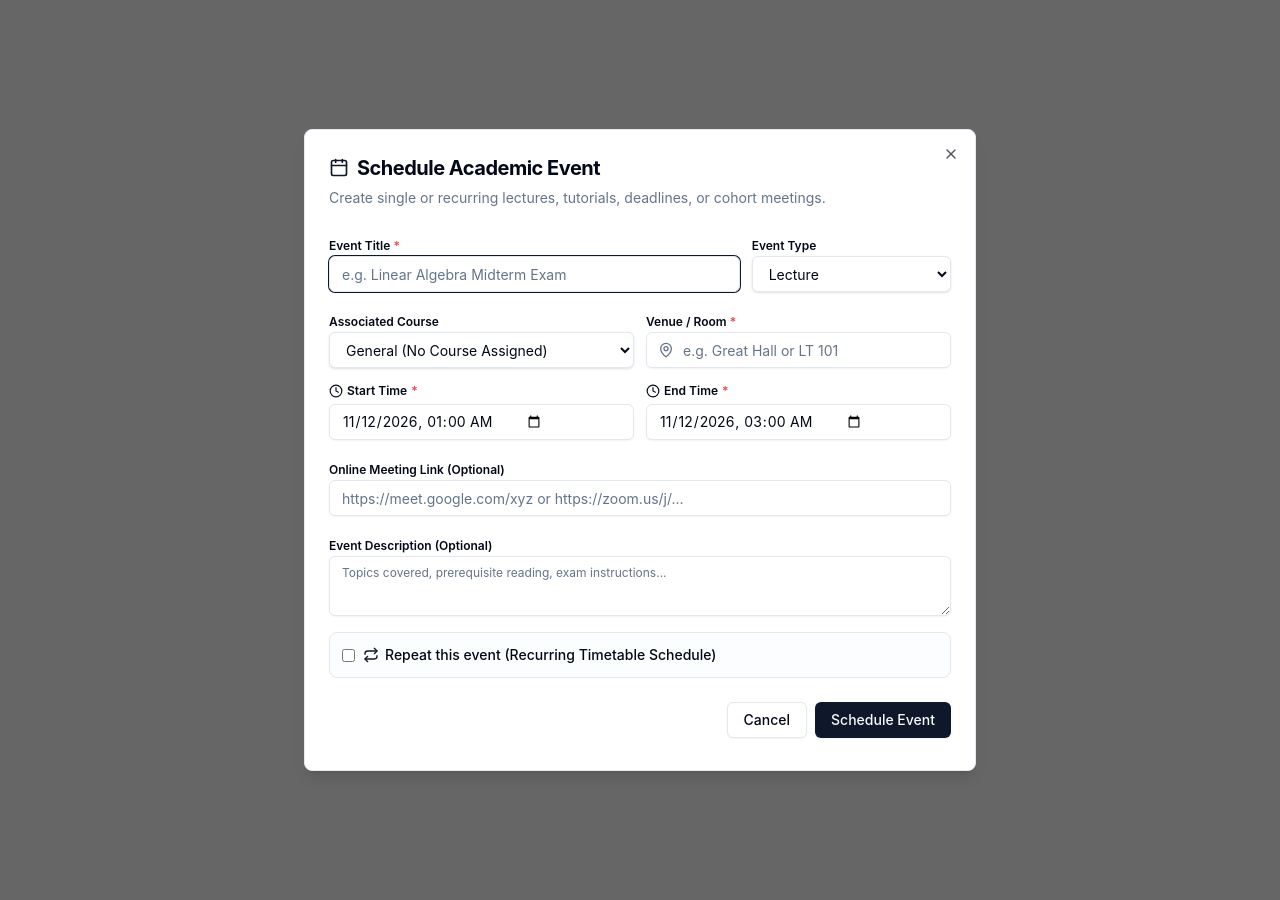
Scenario: Event Components & Dialogs › CreateEventDialog › displays venue collision warning banner when 409 conflict occurs
The image size is (1280, 900).
Type "Conflict Lecture" into the field labelled "Event Title *".
click(534, 274); type("Conflict Lecture")  # box [329, 256, 740, 292]
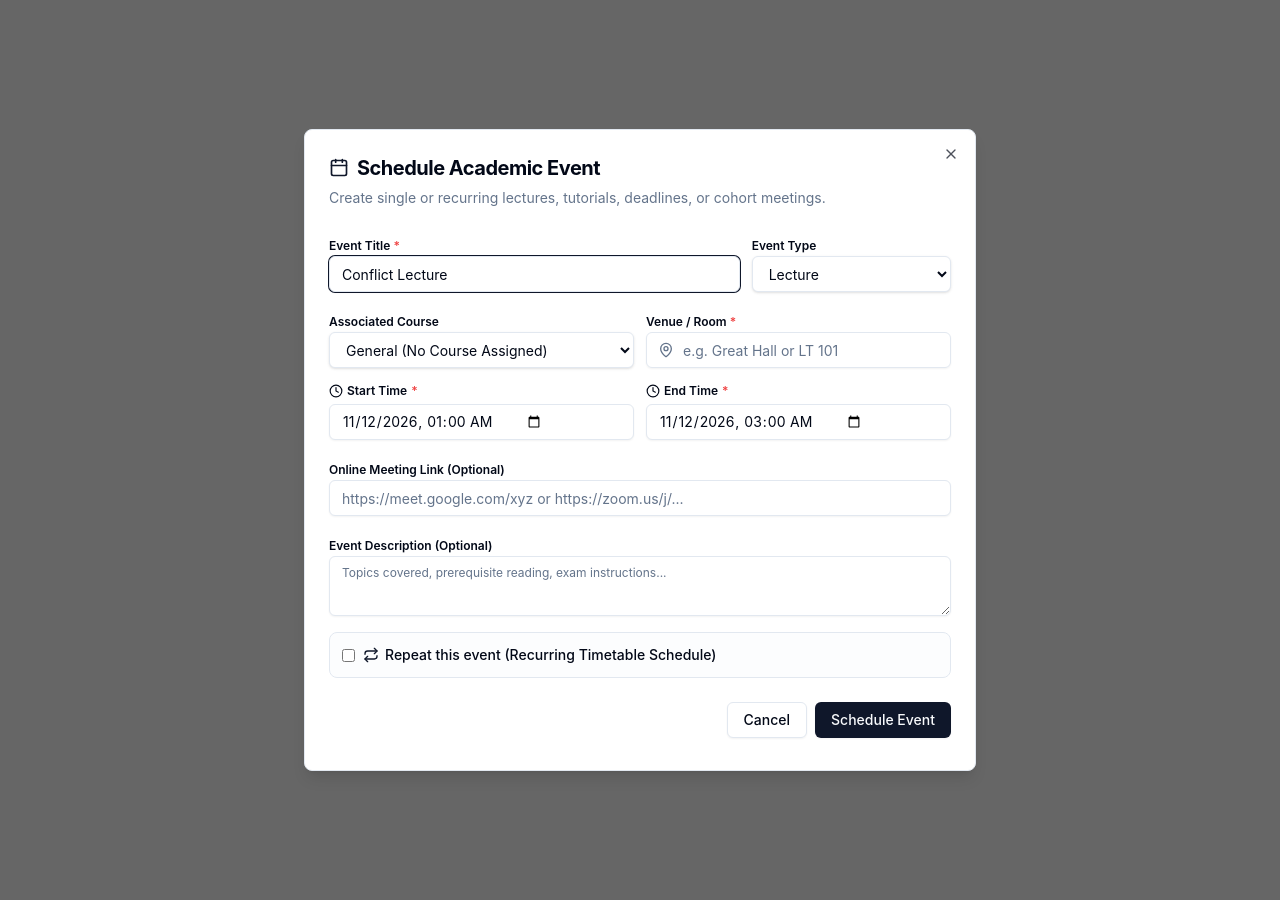
Type "Auditorium 1" into the field labelled "Venue / Room *".
click(798, 350); type("Auditorium 1")  # box [646, 332, 951, 368]
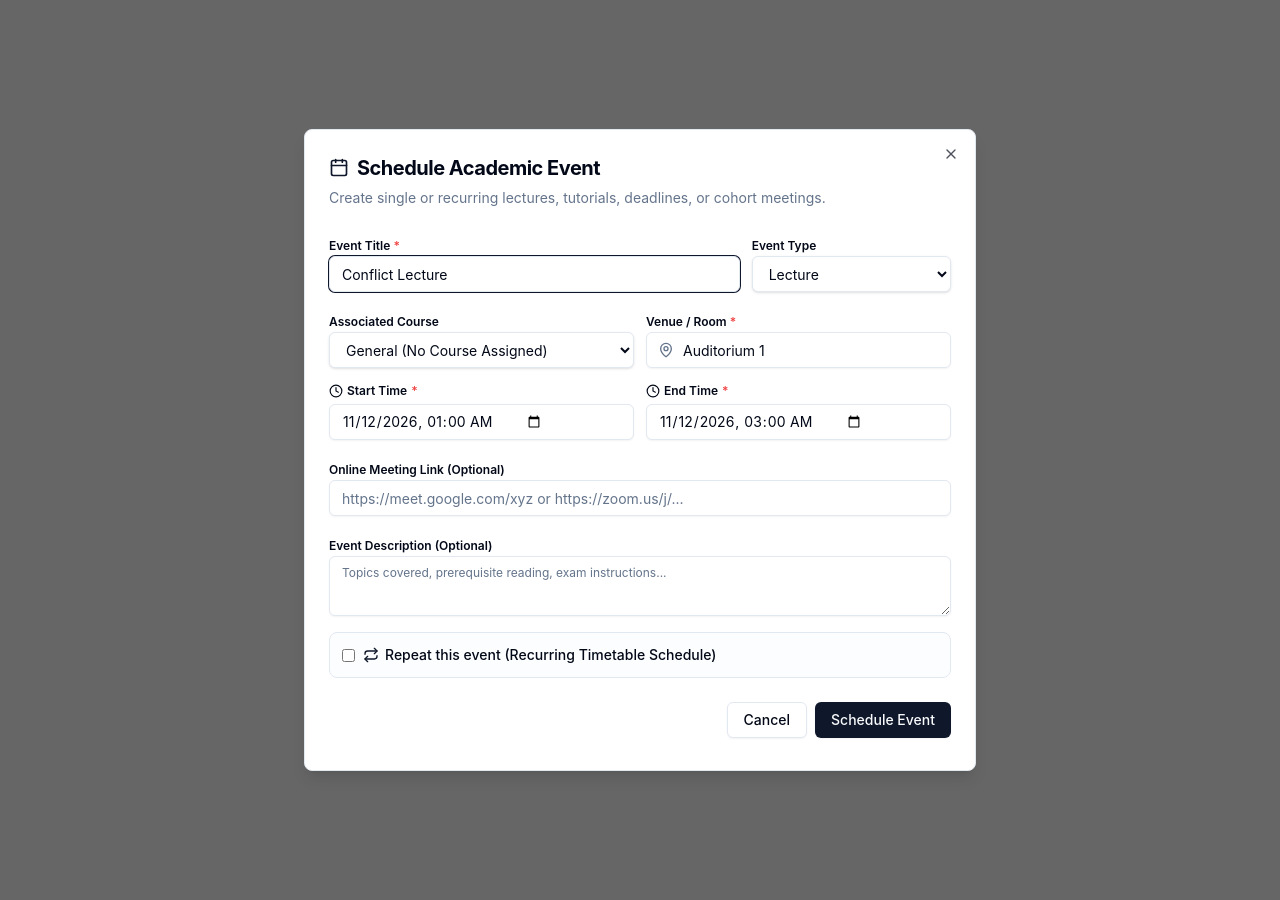
Click the button "Schedule Event".
click(883, 720)  # box [815, 702, 951, 738]
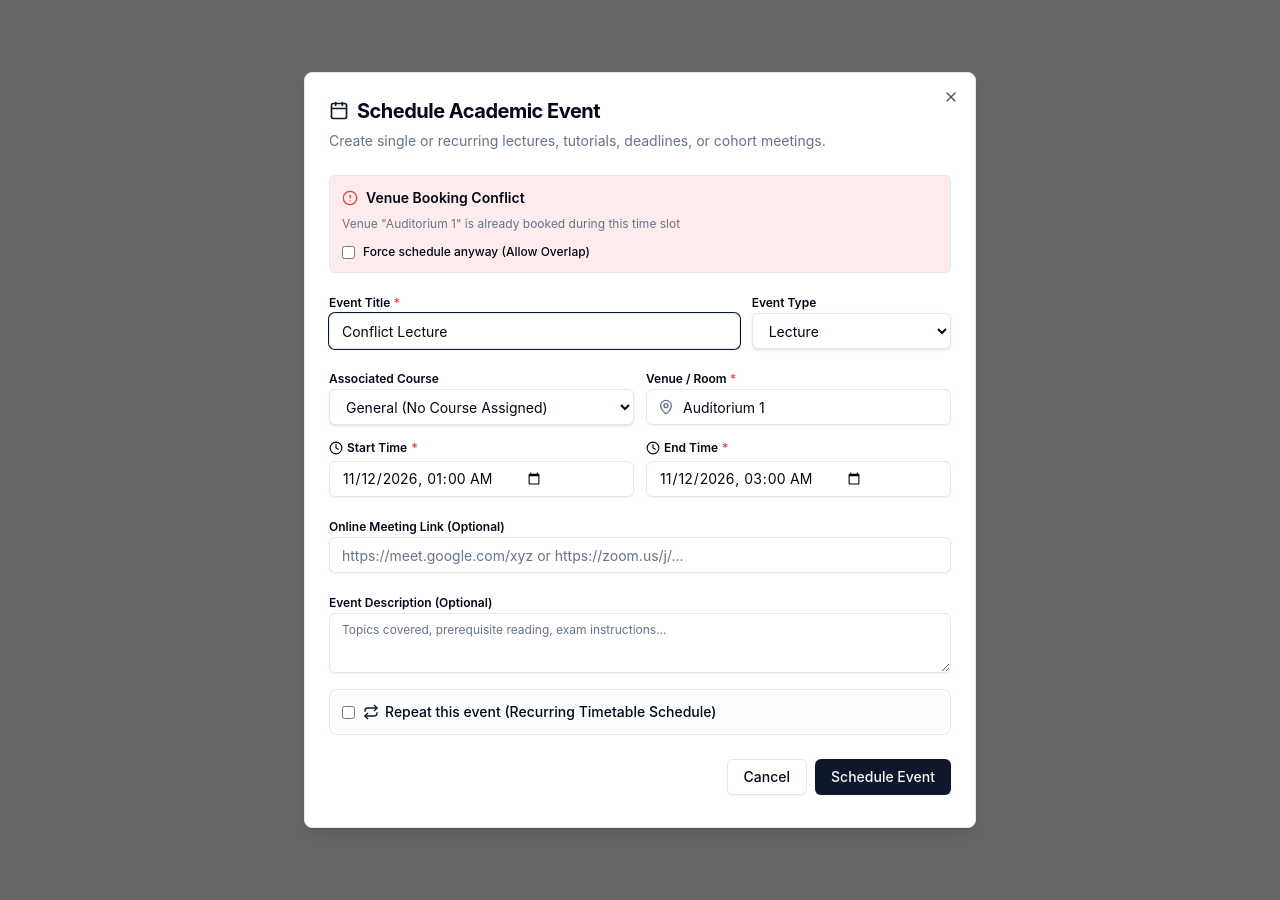
Now the text "Venue Booking Conflict" is shown, box [366, 188, 525, 208]
Now the text "Force schedule anyway (Allow Overlap)" is shown, box [342, 244, 590, 259]
